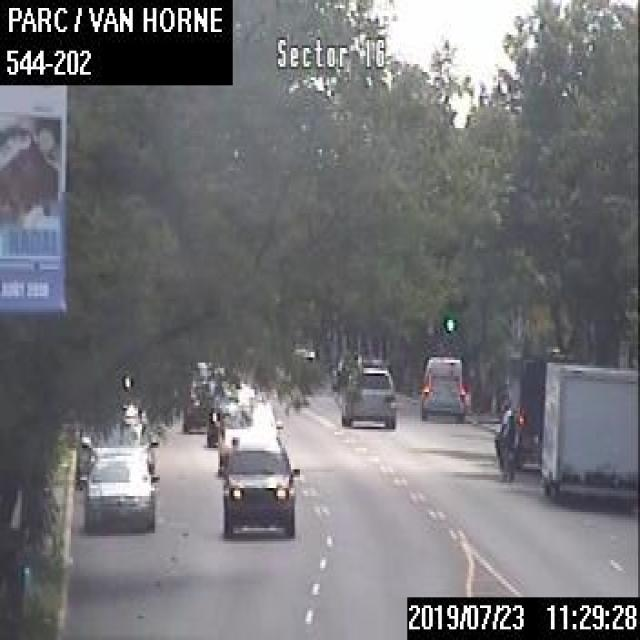vehicle: (538, 356, 638, 502), (217, 433, 298, 536), (79, 454, 159, 534), (215, 395, 282, 471), (80, 414, 157, 471), (205, 381, 259, 450), (340, 364, 396, 427), (418, 352, 464, 421), (491, 395, 526, 483), (182, 376, 226, 436), (330, 352, 368, 388)
